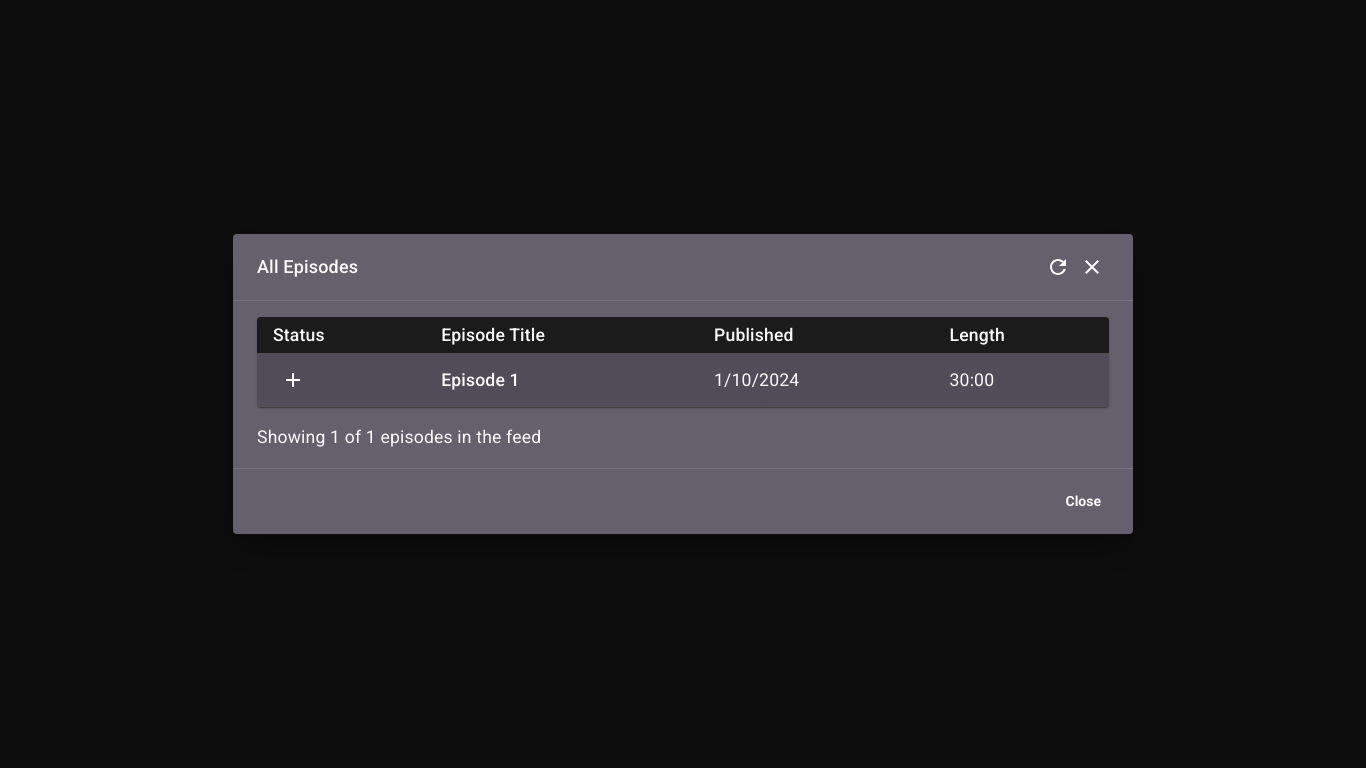
Test: FeedEpisodeBrowserDialog › imports a row by its guid, then shows it as in the library
The image size is (1366, 768).
Click the button named "import episode 1" at (293, 380), box 273,360 -> 313,400
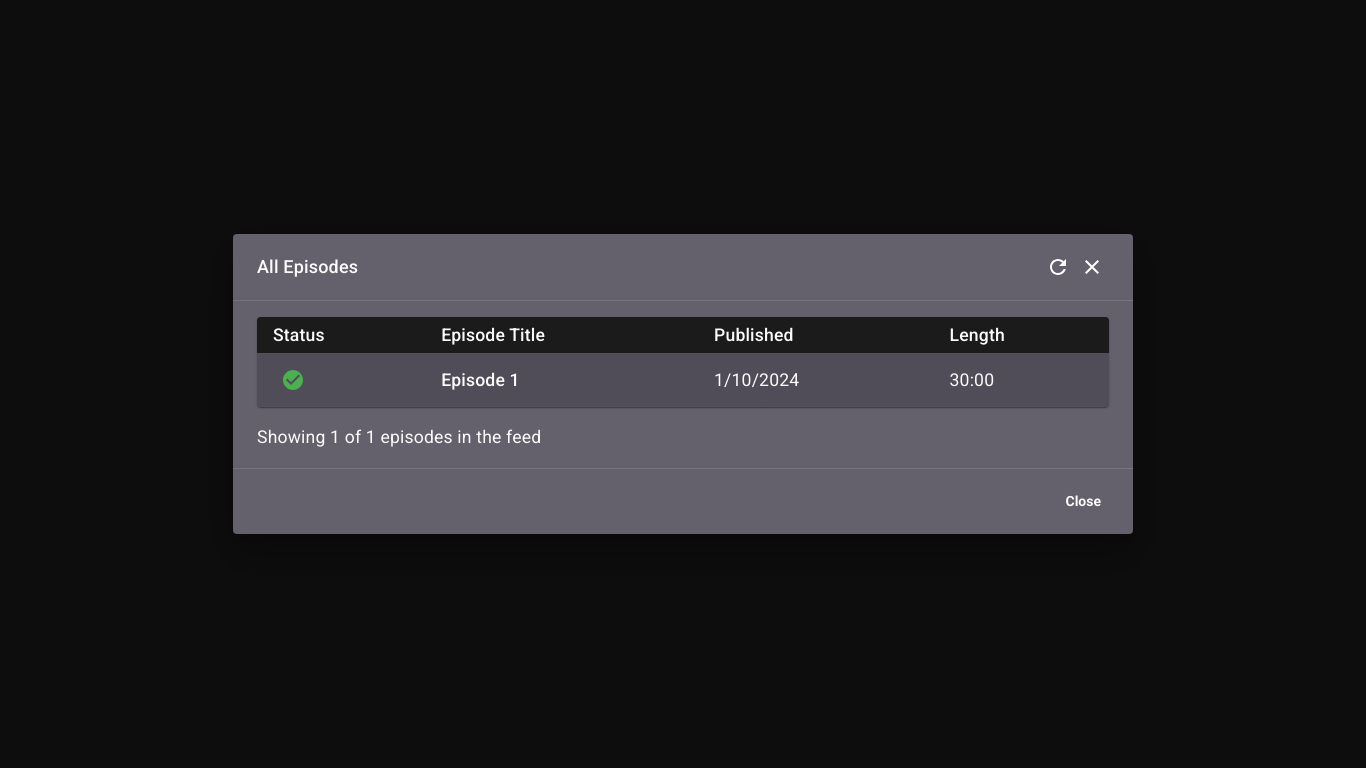
Expected: the button named "view episode 1" is shown, 273,360 -> 313,400
